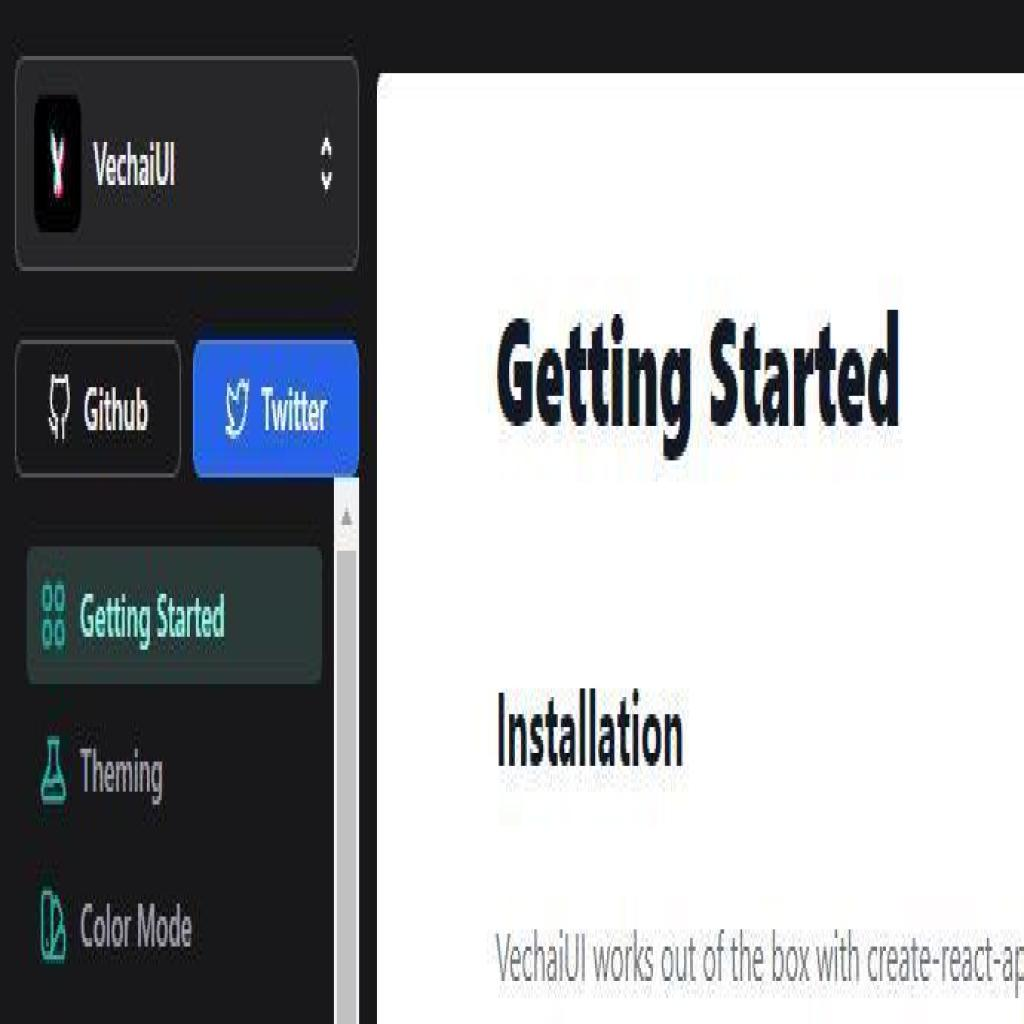button: (193, 344, 359, 478), (13, 340, 181, 469)
dropdown: (14, 52, 360, 271)
icon: (40, 719, 70, 826), (40, 572, 71, 667), (38, 886, 70, 972)
label: (80, 576, 233, 662), (79, 891, 206, 968), (79, 740, 169, 826)
